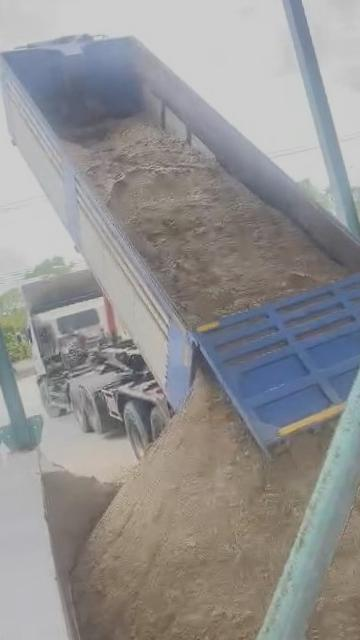sand: (73, 374, 332, 640), (66, 117, 347, 325), (312, 399, 360, 632), (44, 465, 119, 577)
